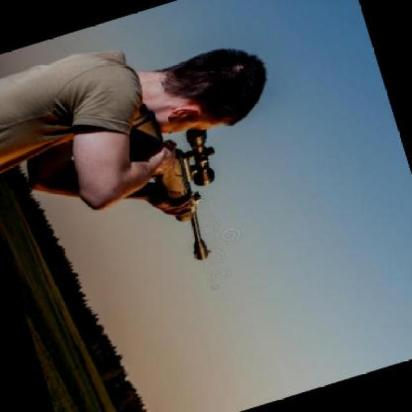Gun: (121, 85, 248, 270)
